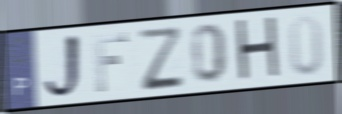0: (189, 21, 229, 87), (287, 12, 325, 78)
F: (92, 31, 130, 94)
H: (233, 14, 283, 86)
J: (41, 32, 86, 102)
Z: (135, 25, 186, 93)
